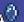lens: (1, 1, 24, 22)
